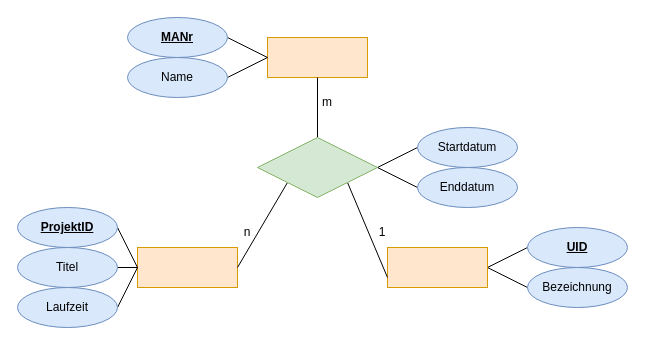
Some shapes in this 645 by 345 pixel diagram are drawn without their labels. Here are the shapes that lost their labels. From the top down, the centre of each, then its label:
At [317,57]: "Mitarbeiter".
At [317,167]: "arbeitetAn".
At [187,267]: "Projekte".
At [437,267]: "Unternehmen".
